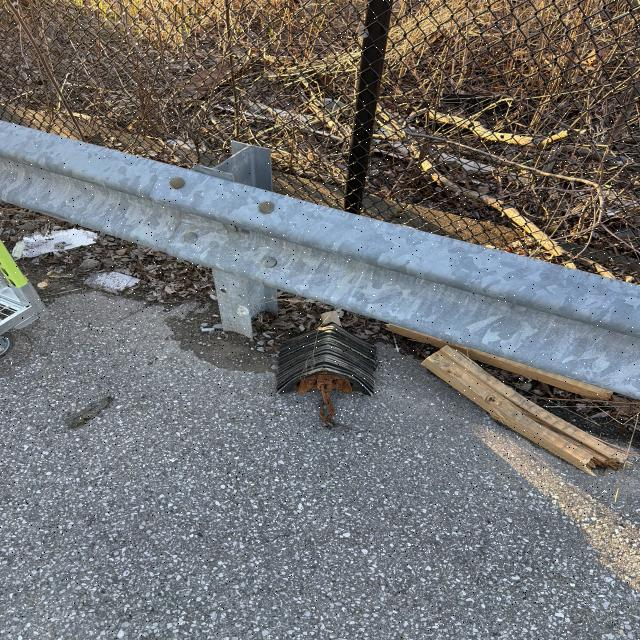Guard rail: (6, 130, 608, 377)
